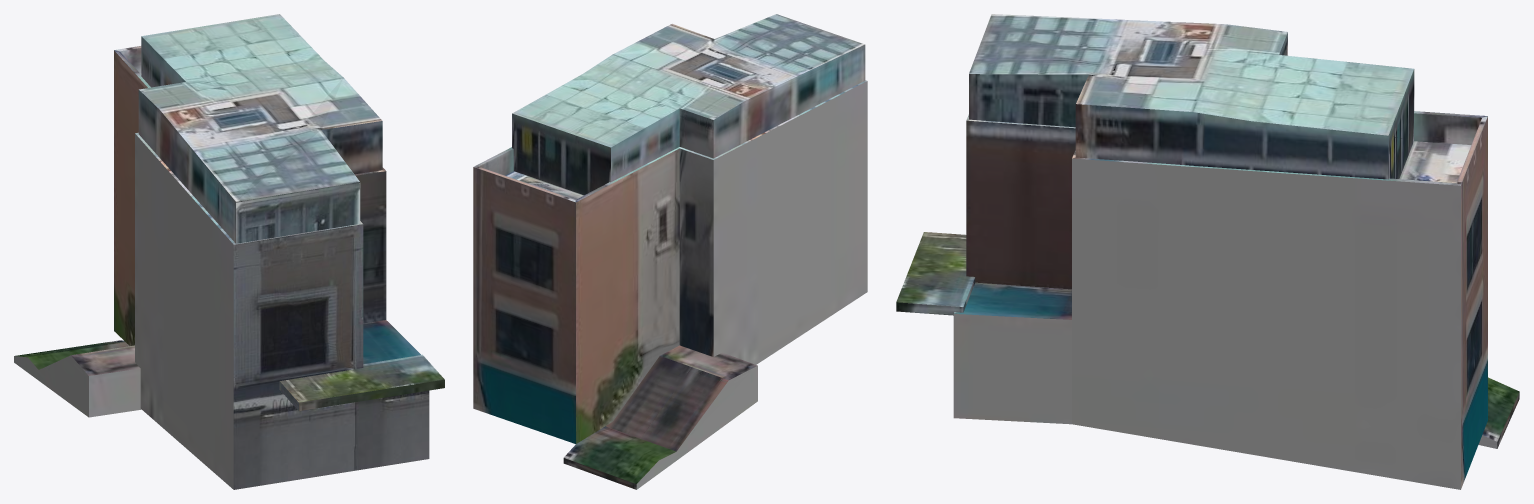
The picture shows the model from 3 angles, left to right: view 1: azimuth 30°, elevation 25°; view 2: azimuth 150°, elevation 25°; view 3: azimuth 270°, elevation 25°; orthographic projection. The views are drawn at different scales.
Visible parts, largest first — view 1: B280084034201063A0; view 2: B280084034201063A0; view 3: B280084034201063A0.
Boxes of the visible parts, box(x1,y1,x2,y2) form: B280084034201063A0: box(14, 14, 444, 489); B280084034201063A0: box(473, 14, 867, 489); B280084034201063A0: box(896, 14, 1519, 489).
Size of the model in its own units: 8.46 by 11.38 by 16.87.
Materials: 1 (1 with a texture image).
